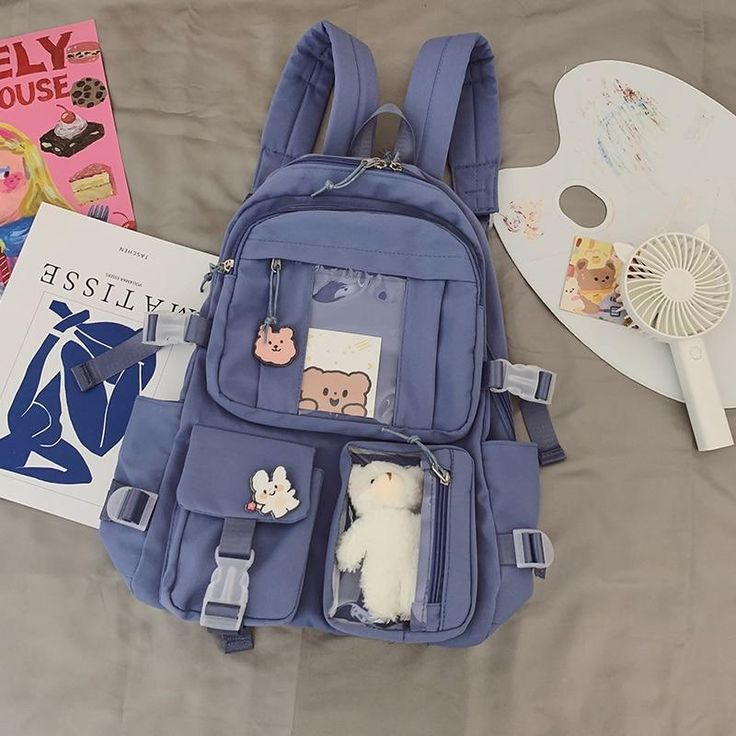nylon: (100, 16, 542, 653)
